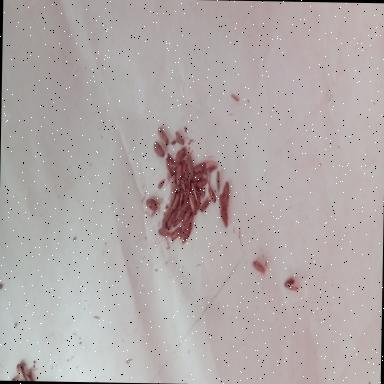pbw: (162, 202, 173, 226), (180, 225, 192, 247), (284, 277, 300, 292), (180, 208, 192, 228), (175, 147, 188, 165), (186, 153, 194, 181), (168, 207, 178, 229), (158, 128, 170, 146), (190, 181, 200, 202), (170, 226, 183, 242), (173, 212, 186, 228), (16, 363, 27, 381), (182, 162, 191, 184), (252, 260, 266, 274), (190, 193, 198, 216), (146, 200, 160, 213), (179, 176, 188, 196), (172, 192, 180, 214), (201, 196, 211, 213), (223, 182, 230, 206), (204, 164, 218, 176), (154, 142, 164, 158), (184, 214, 194, 230), (180, 198, 190, 214), (220, 208, 228, 228), (194, 162, 207, 174), (195, 177, 208, 189), (208, 185, 216, 204), (170, 181, 176, 205), (176, 162, 182, 186), (175, 132, 185, 146), (158, 228, 172, 238), (220, 195, 228, 212), (184, 182, 190, 204), (166, 158, 172, 180), (192, 172, 204, 183), (179, 188, 184, 208), (196, 190, 201, 210), (216, 170, 220, 192), (158, 180, 164, 190)
